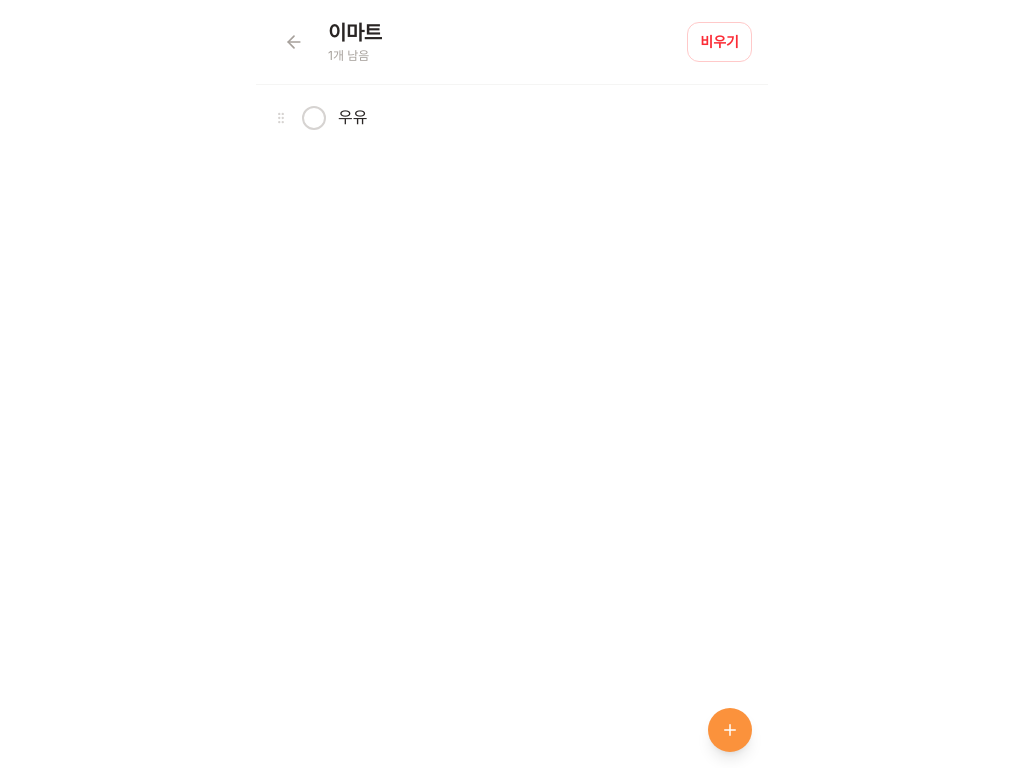
Test case: ReminderDetailView › 아이템 비우기에 실패하면 이전 아이템을 복원한다
Click the button with aria-label "아이템 비우기" at (720, 42), box [687,22,752,62]
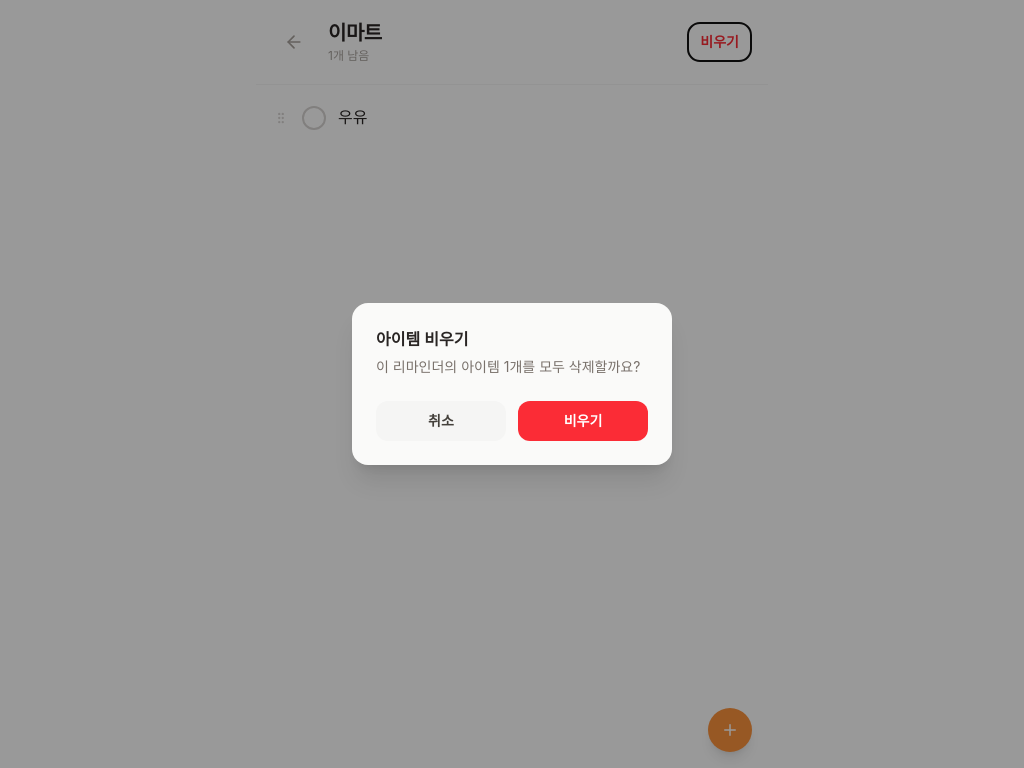
Click the button with aria-label "아이템 비우기 확인" at (583, 421), box [518,401,648,441]
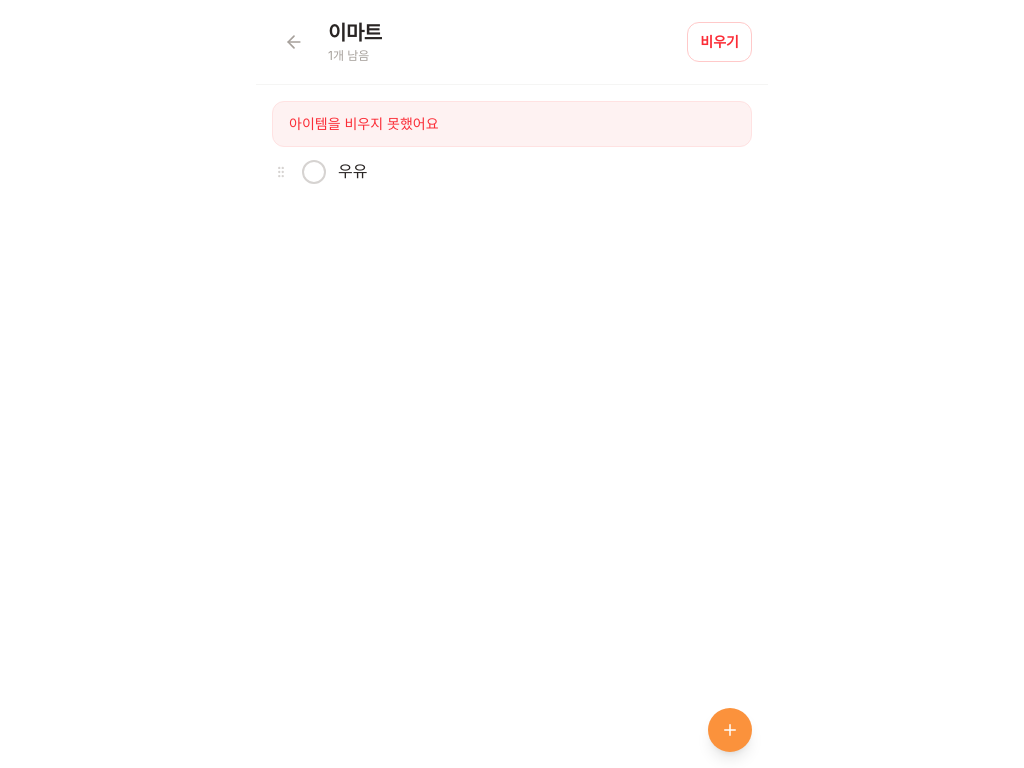
Expected: the text "우유" is shown, [338,161,368,181]
Expected: the text "아이템을 비우지 못했어요" is shown, [272,101,752,147]
